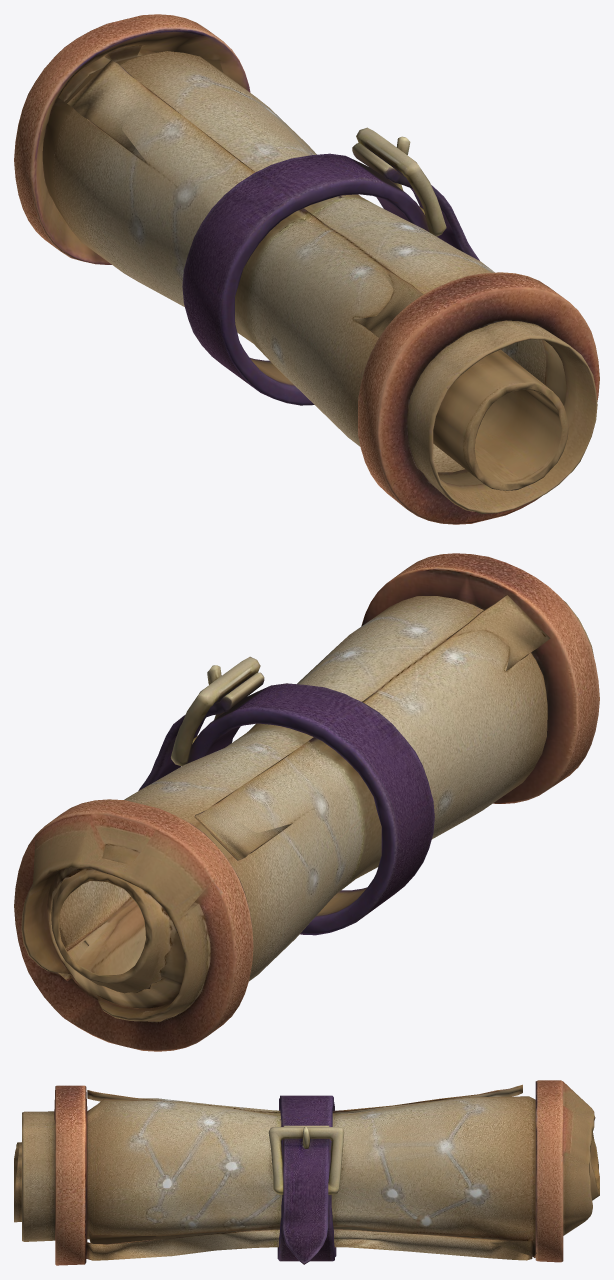
File: tripo_convert_eb6df566-eafe-44c1-84b8-12e29a3cf547.fbx
3 renders of one model, top to bottom at view 1: azimuth 30°, elevation 25°; view 2: azimuth 150°, elevation 25°; view 3: azimuth 270°, elevation 25°, orthographic. The views are drawn at different scales.
Visible parts, largest first — view 1: tripo_node_eb6df566; view 2: tripo_node_eb6df566; view 3: tripo_node_eb6df566.
Boxes of the visible parts, x1,y1,x2,y2 form: tripo_node_eb6df566: [14, 14, 599, 524]; tripo_node_eb6df566: [14, 553, 599, 1051]; tripo_node_eb6df566: [14, 1080, 599, 1265].
Size of the model in its own units: 0.3926 by 0.3066 by 0.998.
Materials: 1 (1 with a texture image).
